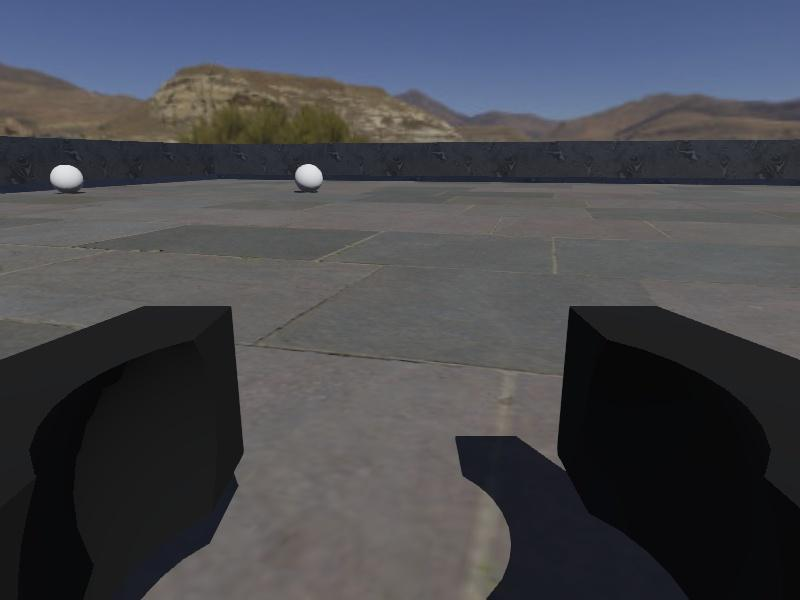white ball: (48, 162, 85, 193), (295, 162, 325, 193)
